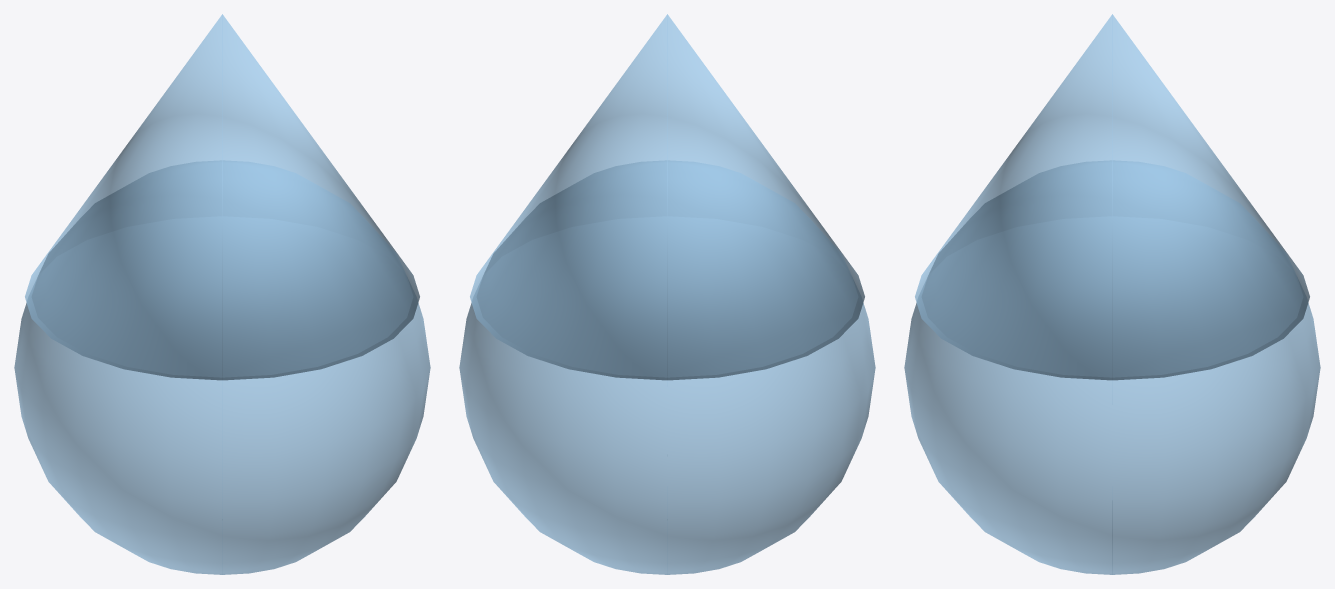
The model's file is water_droplet.glb.
3 views of the same model, side by side, from view 1: azimuth 30°, elevation 25°; view 2: azimuth 150°, elevation 25°; view 3: azimuth 270°, elevation 25° (orthographic).
Visible parts, largest first — view 1: drop_ball, drop_tip; view 2: drop_ball, drop_tip; view 3: drop_ball, drop_tip.
Part boxes in pixels (bbox=[...]): drop_ball: bbox=[14, 160, 430, 574]; drop_tip: bbox=[25, 14, 419, 380]; drop_ball: bbox=[459, 160, 875, 574]; drop_tip: bbox=[470, 14, 864, 380]; drop_ball: bbox=[904, 160, 1320, 574]; drop_tip: bbox=[915, 14, 1309, 380].
Bounding box in the file's own units: 0.008 × 0.0115 × 0.008.
